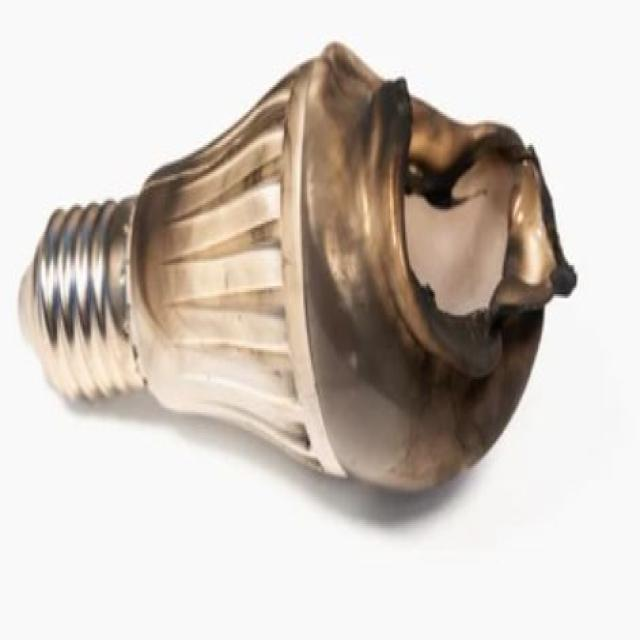electronic: (16, 39, 578, 495)
